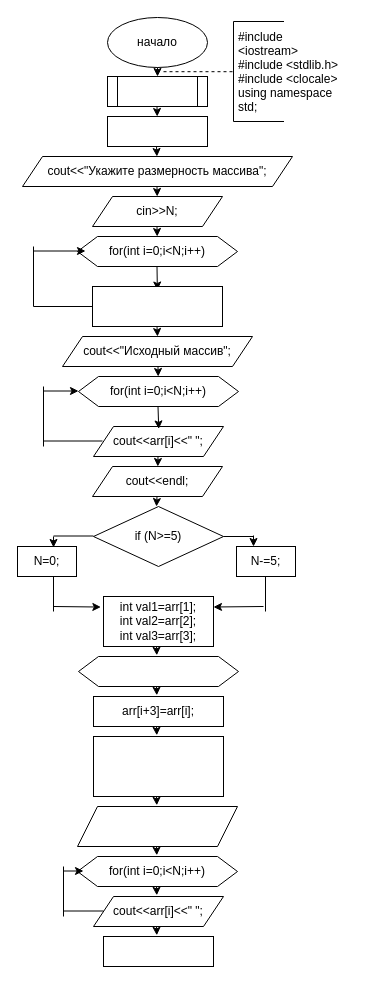
Image size: 365x984. Some labels were removed from this diagram. The centre of each missing label's shape, as x and y in pixels:
arr[0]=val1; arr[1]=val2; arr[2]=val3; N+=3;: (158,766)
arr[i]=rand()%100;: (157,306)
cout<<"Итоговый массив: ";: (157,826)
for(int i=N-1;i>=0;i--): (158,671)
int main(): (157,91)
int N; int arr[100];: (157,131)
return 0;: (158,951)
